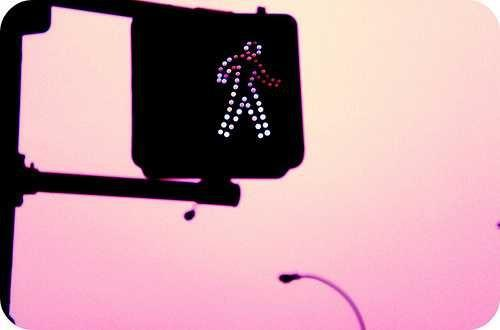green: (155, 15, 294, 159)
